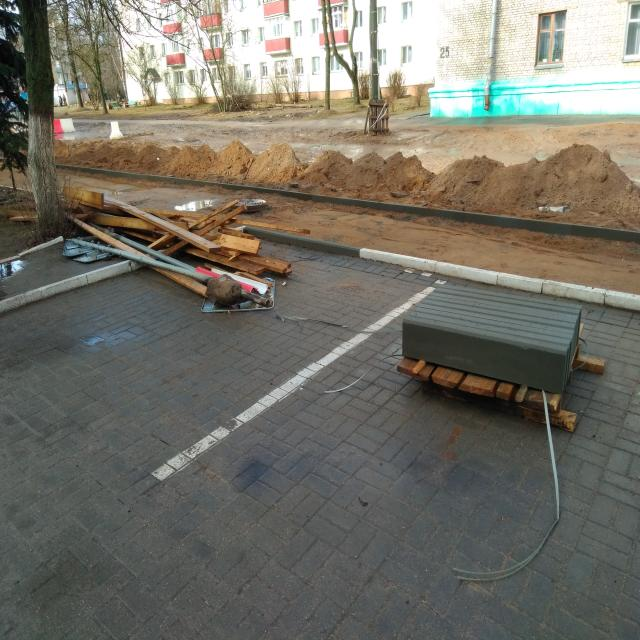entulho: (64, 203, 288, 311), (397, 278, 583, 388), (61, 185, 106, 210)
terra: (484, 141, 631, 200), (430, 154, 508, 196), (386, 146, 438, 192), (304, 146, 358, 184), (255, 140, 303, 178), (217, 140, 255, 172), (356, 147, 389, 170), (138, 143, 167, 159), (195, 141, 217, 161), (177, 144, 196, 158), (166, 144, 178, 154)
